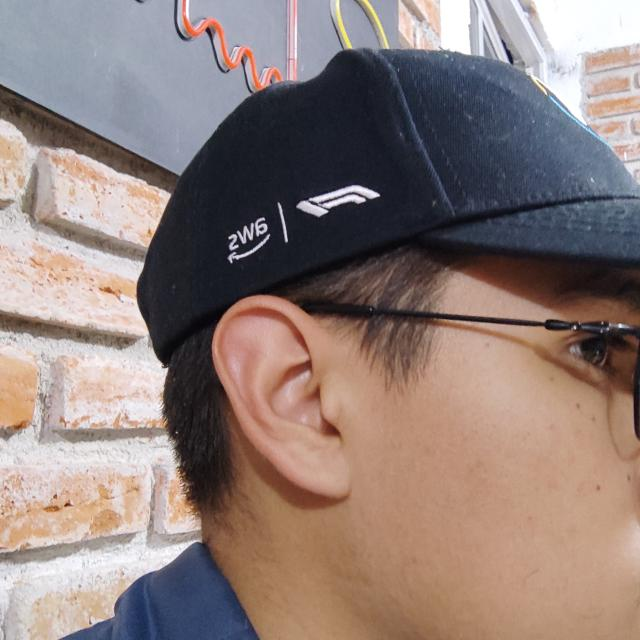ear: (211, 295, 351, 499)
